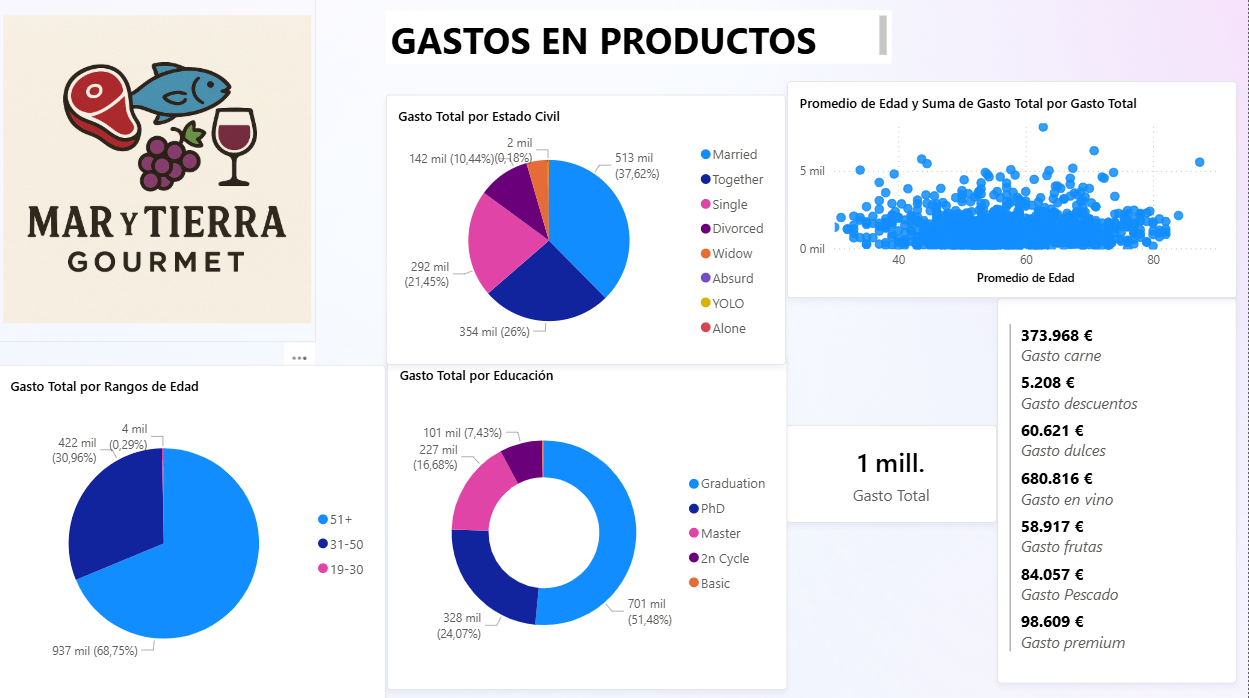

The page's visual inventory and layout, read from the dashboard file:
{"tool":"powerbi","page":{"name":"Página 2","canvas":[1280,720],"ordinal":1},"visuals":[{"type":"multiRowCard","fields":{"Values":["Sum(marketing_campaign.Gasto carne)","Sum(marketing_campaign.Gasto descuentos)","Sum(marketing_campaign.Gasto dulces)","Sum(marketing_campaign.Gasto en vino)","Sum(marketing_campaign.Gasto frutas)","Sum(marketing_campaign.Gasto Pescado)","Sum(marketing_campaign.Gasto premium)"]},"box":[1023.2,308.2,245.2,394.5],"z":0},{"type":"card","fields":{"Values":["Sum(marketing_campaign.Gasto Total)"]},"box":[806.8,438.3,216.4,100],"z":1},{"type":"image","box":[0,0,326,353.4],"z":2},{"type":"pieChart","fields":{"Category":["marketing_campaign.Rangos de Edad"],"Y":["Sum(marketing_campaign.Gasto Total)"]},"box":[0,376.7,397.2,343.8],"z":3},{"type":"donutChart","fields":{"Y":["Sum(marketing_campaign.Gasto Total)"],"Category":["marketing_campaign.Educación"]},"box":[397.2,376.7,409.6,343.8],"z":4},{"type":"pieChart","fields":{"Y":["Sum(marketing_campaign.Gasto Total)"],"Category":["marketing_campaign.Estado Civil"]},"box":[397.2,100,409.6,276.7],"z":5},{"type":"scatterChart","fields":{"X":["Avg(marketing_campaign.Edad)"],"Y":["Sum(marketing_campaign.Gasto Total)"],"Category":["marketing_campaign.Gasto Total"]},"box":[806.8,86.3,461.6,221.9],"z":6}]}

Visuals, with their boxes on the page's 1280x720 design canvas (x1, y1, x2, y2). These are canvas units, not pixel positions in the 1249x698 screenshot, which may show the page scaled, cropped or inside an application window:
multiRowCard - Sum(marketing_campaign.Gasto carne) x Sum(marketing_campaign.Gasto descuentos): [1023,308,1268,703]
card - Sum(marketing_campaign.Gasto Total): [807,438,1023,538]
image: [0,0,326,353]
pieChart - marketing_campaign.Rangos de Edad x Sum(marketing_campaign.Gasto Total): [0,377,397,720]
donutChart - Sum(marketing_campaign.Gasto Total) x marketing_campaign.Educación: [397,377,807,720]
pieChart - Sum(marketing_campaign.Gasto Total) x marketing_campaign.Estado Civil: [397,100,807,377]
scatterChart - Avg(marketing_campaign.Edad) x Sum(marketing_campaign.Gasto Total): [807,86,1268,308]
